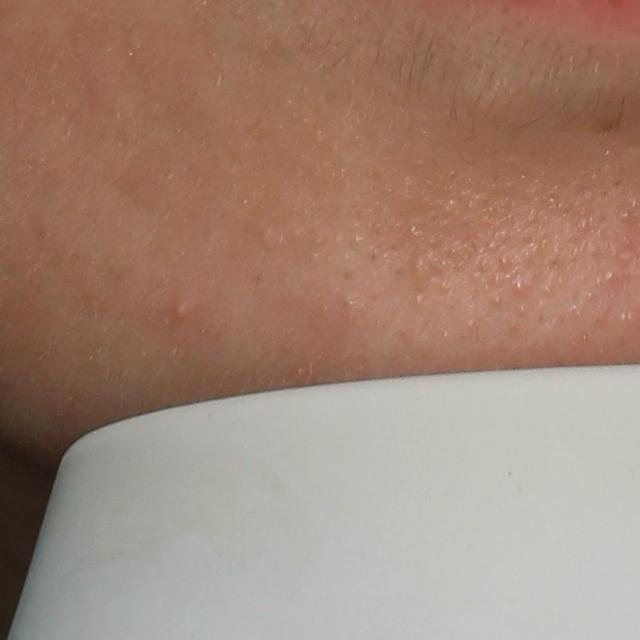comedo: (510, 278, 526, 296)
